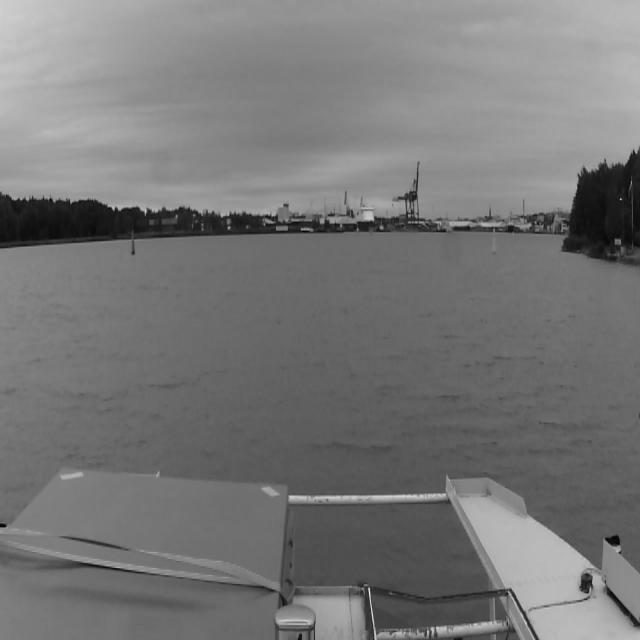buoy: (492, 226, 498, 256), (130, 227, 136, 256)
ship: (357, 203, 377, 233), (378, 225, 388, 233)
